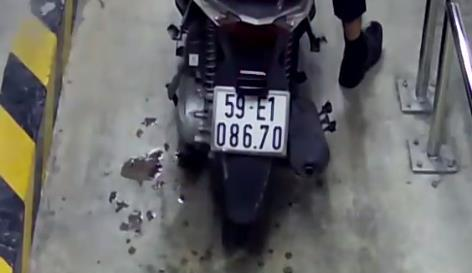lisence: (212, 86, 290, 156)
